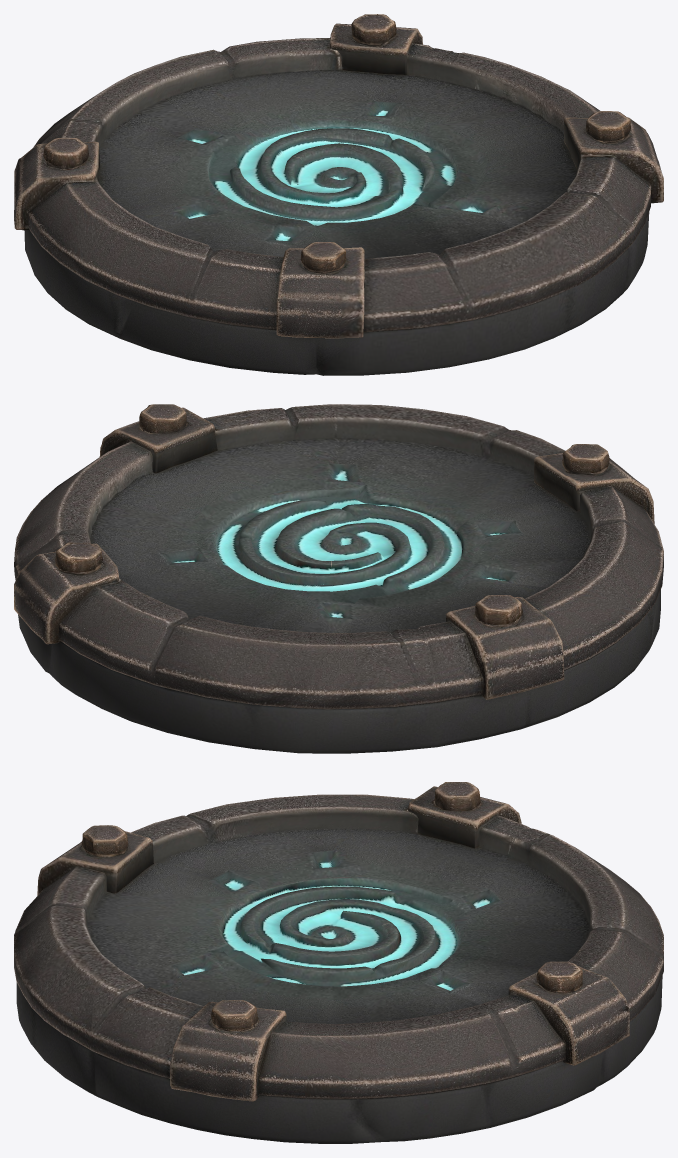
File: tripo_convert_eebb9f04-7263-4490-acf9-f085e5de8c9f.fbx
3 views of the same model, one above another, from view 1: azimuth 30°, elevation 25°; view 2: azimuth 150°, elevation 25°; view 3: azimuth 270°, elevation 25° (orthographic). The views are drawn at different scales.
Parts seen in each view (by area): view 1: tripo_node_eebb9f04; view 2: tripo_node_eebb9f04; view 3: tripo_node_eebb9f04.
Part boxes in pixels (box(x1,y1,x2,y2)): tripo_node_eebb9f04: box(14, 14, 663, 375); tripo_node_eebb9f04: box(14, 404, 663, 753); tripo_node_eebb9f04: box(14, 782, 663, 1143).
Size of the model in its own units: 0.998 by 0.1914 by 0.998.
Materials: 1 (1 with a texture image).
